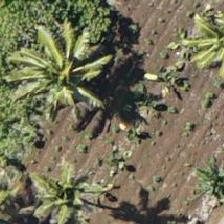coconut_tree: (23, 23, 113, 113), (18, 153, 108, 223), (173, 1, 223, 91)
